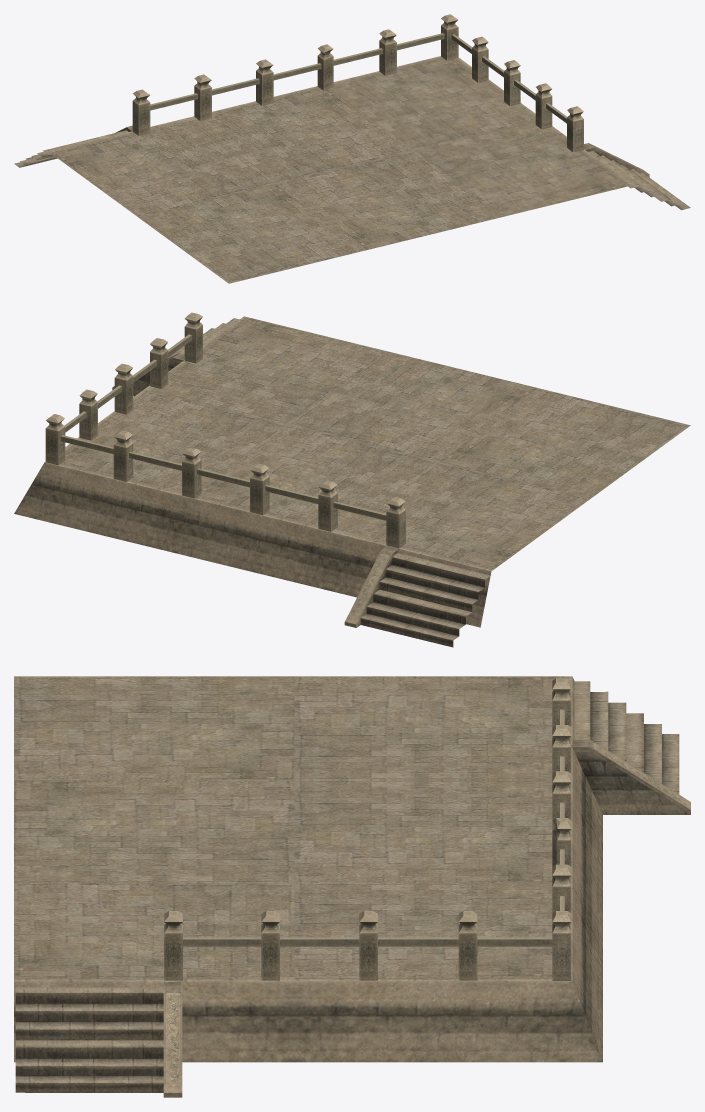
File: desert_tower04.glb
The picture shows the model from 3 angles, top to bottom: view 1: azimuth 30°, elevation 25°; view 2: azimuth 150°, elevation 25°; view 3: azimuth 270°, elevation 25°; orthographic projection. The views are drawn at different scales.
Parts seen in each view (by area): view 1: desert_tower02_04; view 2: desert_tower02_04; view 3: desert_tower02_04.
Boxes of the visible parts, x1,y1,x2,y2 form: desert_tower02_04: (14,14,690,283); desert_tower02_04: (14,312,690,647); desert_tower02_04: (14,676,690,1097).
Size of the model in its own units: 42.51 by 7.32 by 34.34.
Materials: 1 (1 with a texture image).
